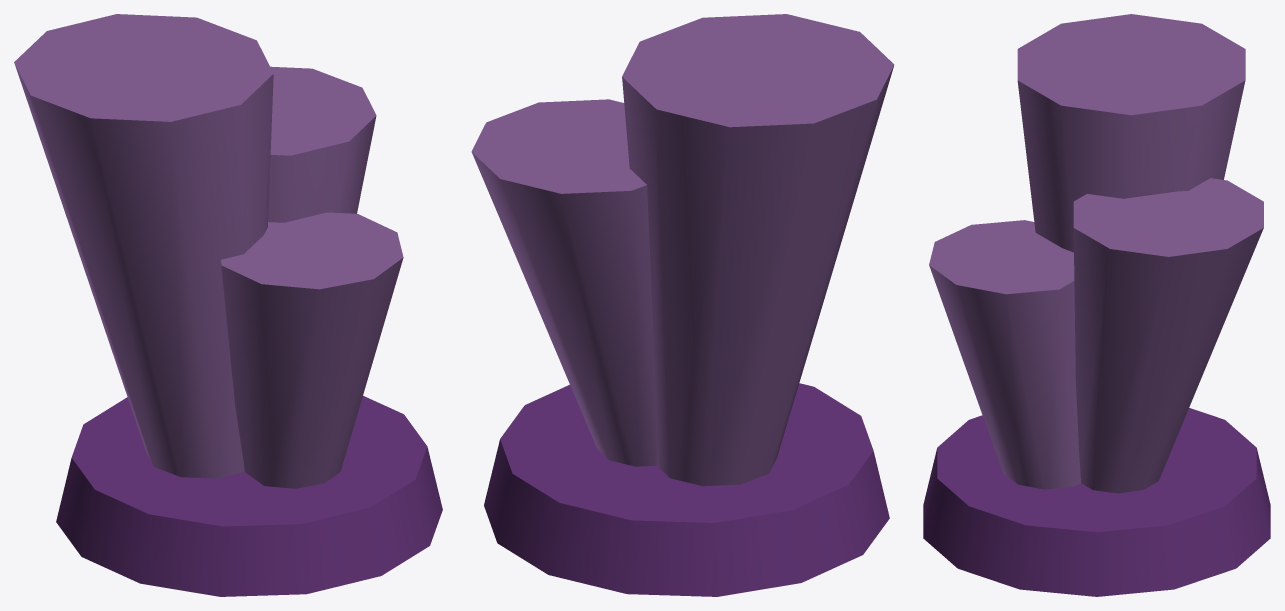
File: toy_deco_01.fbx
3 views of the same model, side by side, from view 1: azimuth 30°, elevation 25°; view 2: azimuth 150°, elevation 25°; view 3: azimuth 270°, elevation 25° (orthographic). The views are drawn at different scales.
Parts seen in each view (by area): view 1: toy_deco_01; view 2: toy_deco_01; view 3: toy_deco_01.
Part boxes in pixels (x1,y1,x2,y2): toy_deco_01: (14, 14, 442, 596); toy_deco_01: (471, 14, 894, 596); toy_deco_01: (923, 14, 1270, 596).
Bounding box in the file's own units: 33.51 × 39.64 × 29.83.
